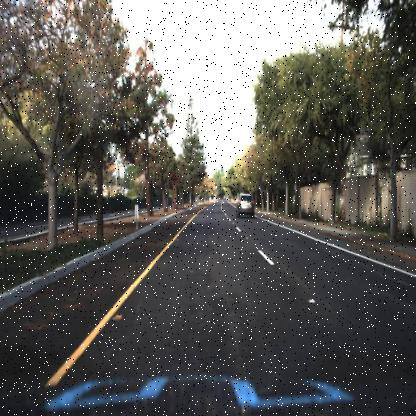car: (236, 192, 256, 218)
